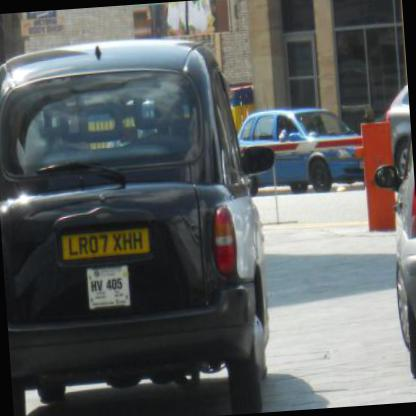car: (0, 30, 279, 415), (366, 82, 415, 384), (235, 100, 366, 197), (382, 74, 414, 184)
